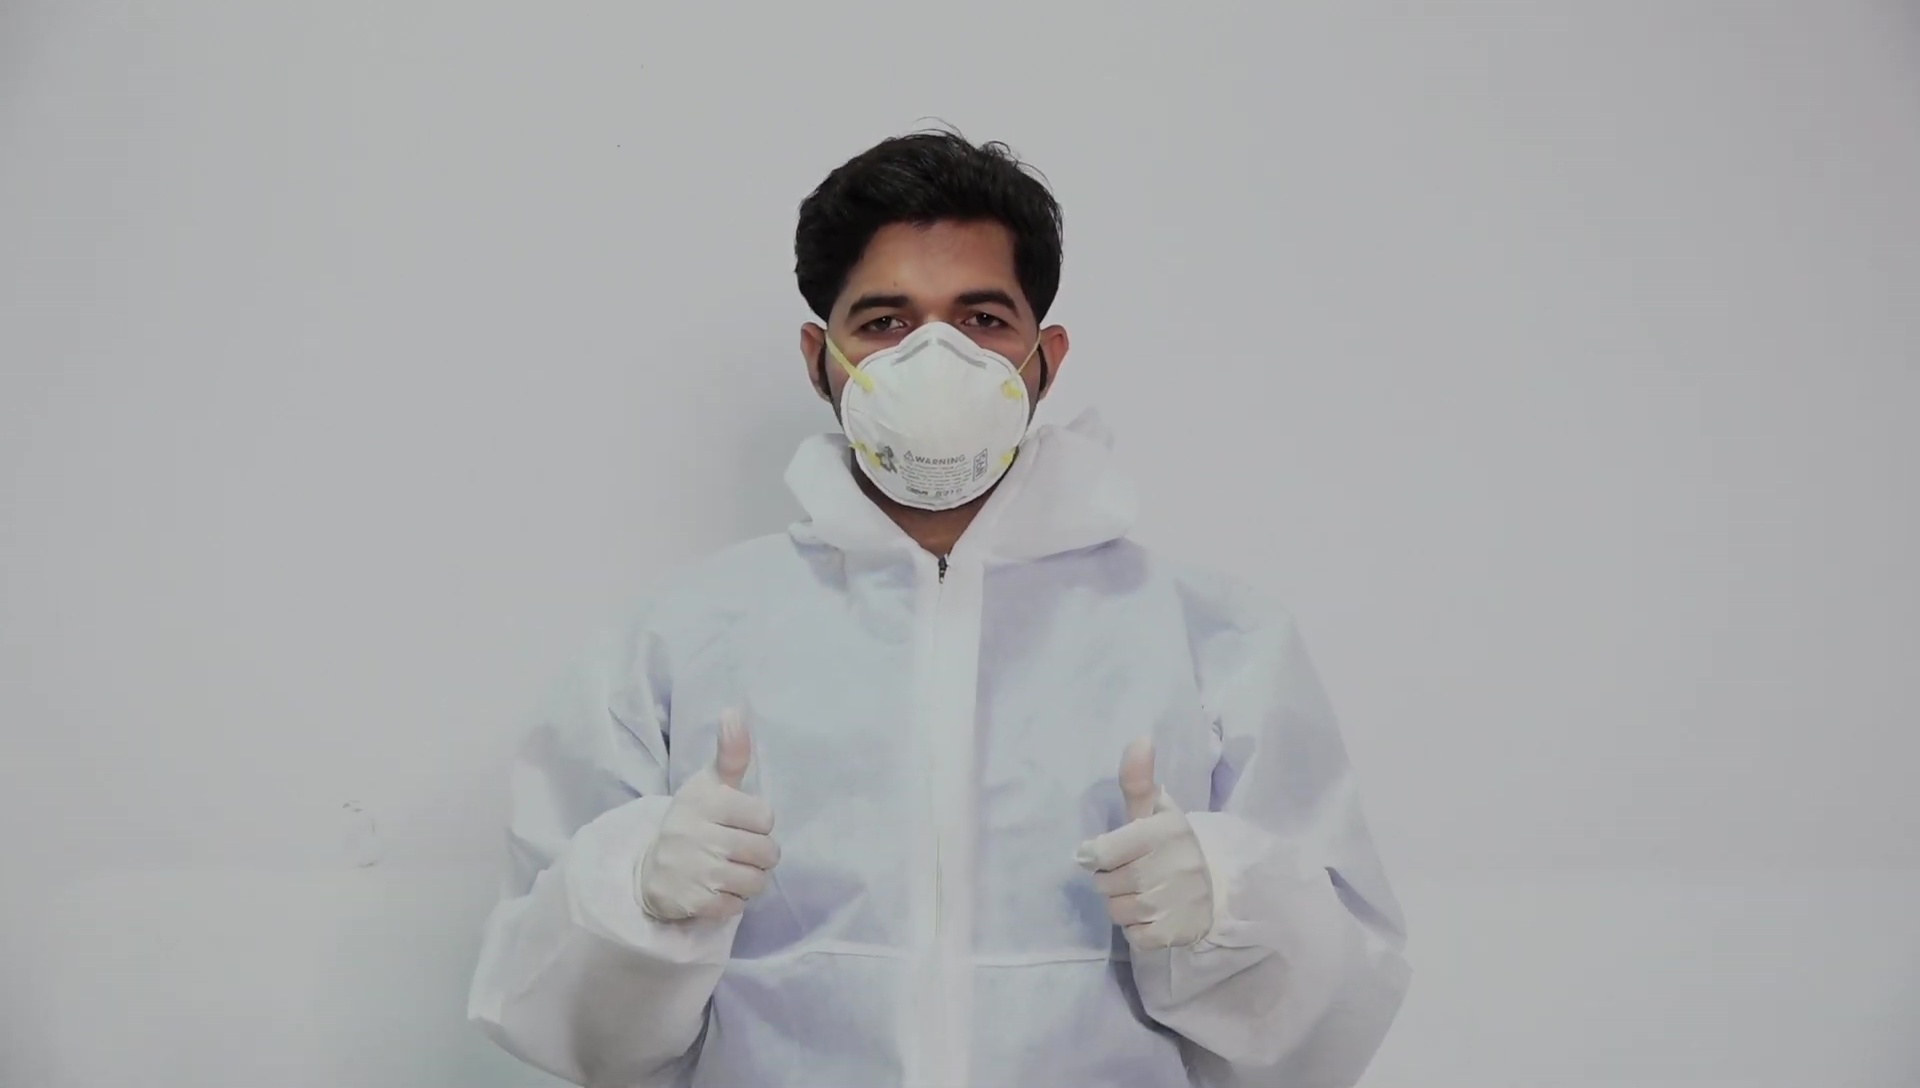Coverall: (467, 514, 1411, 1085)
Gloves: (638, 708, 784, 930), (1074, 733, 1215, 953)
with_mask: (839, 309, 1027, 515)
